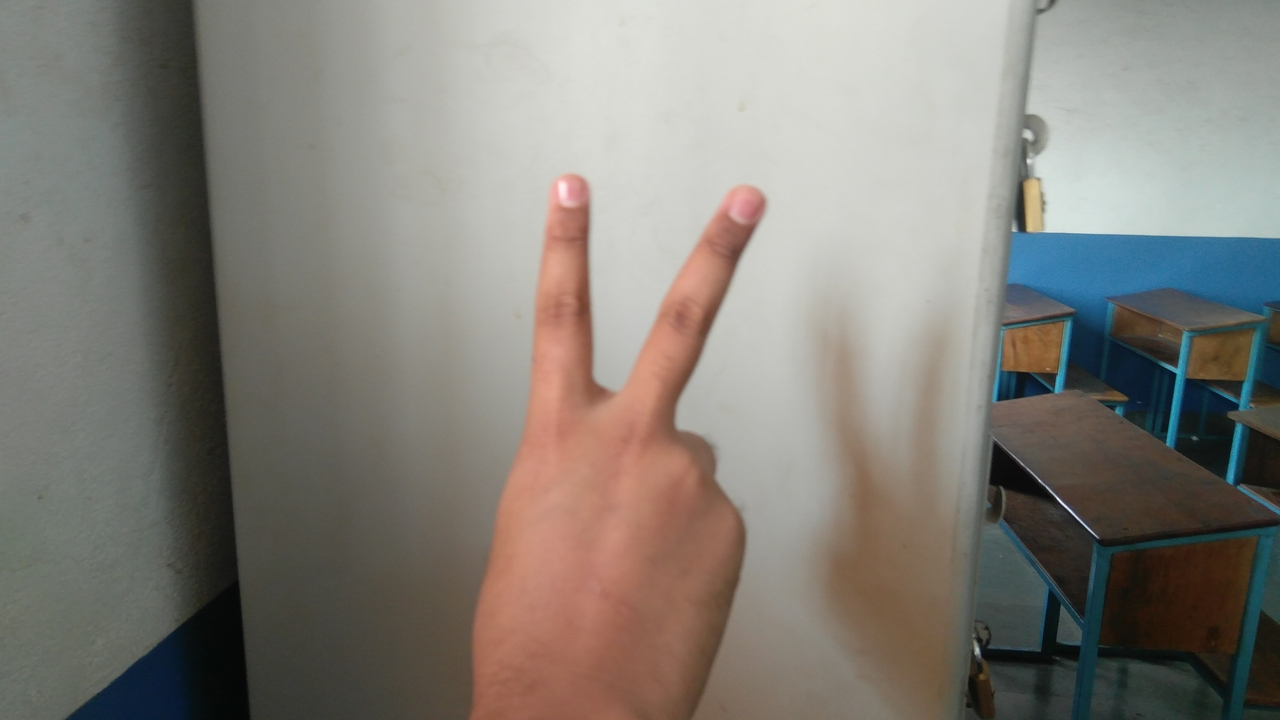fingertip: (710, 172, 776, 232), (536, 164, 598, 218)
